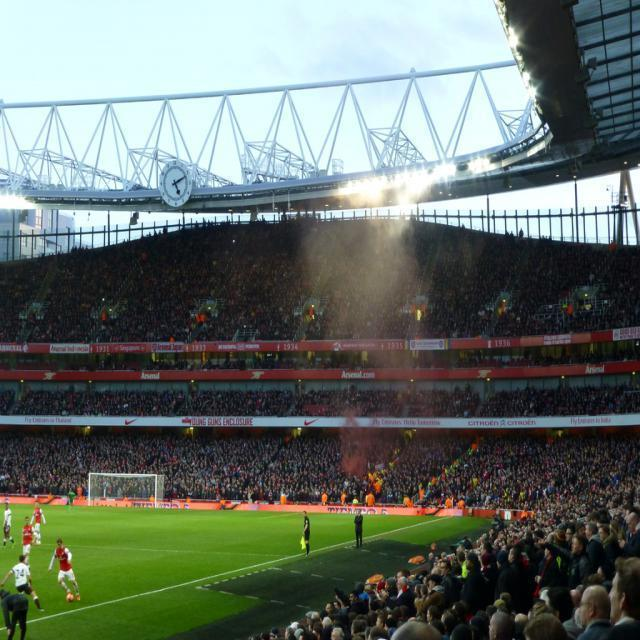ball: (64, 589, 73, 605)
